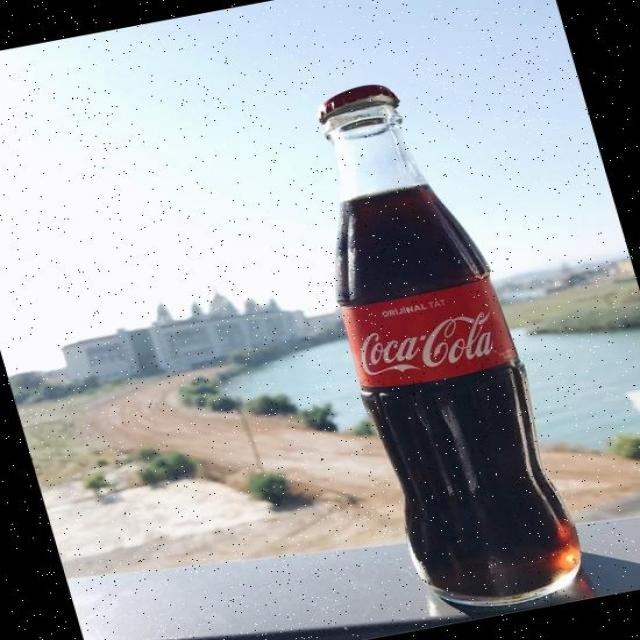coca-cola: (260, 60, 605, 630)
